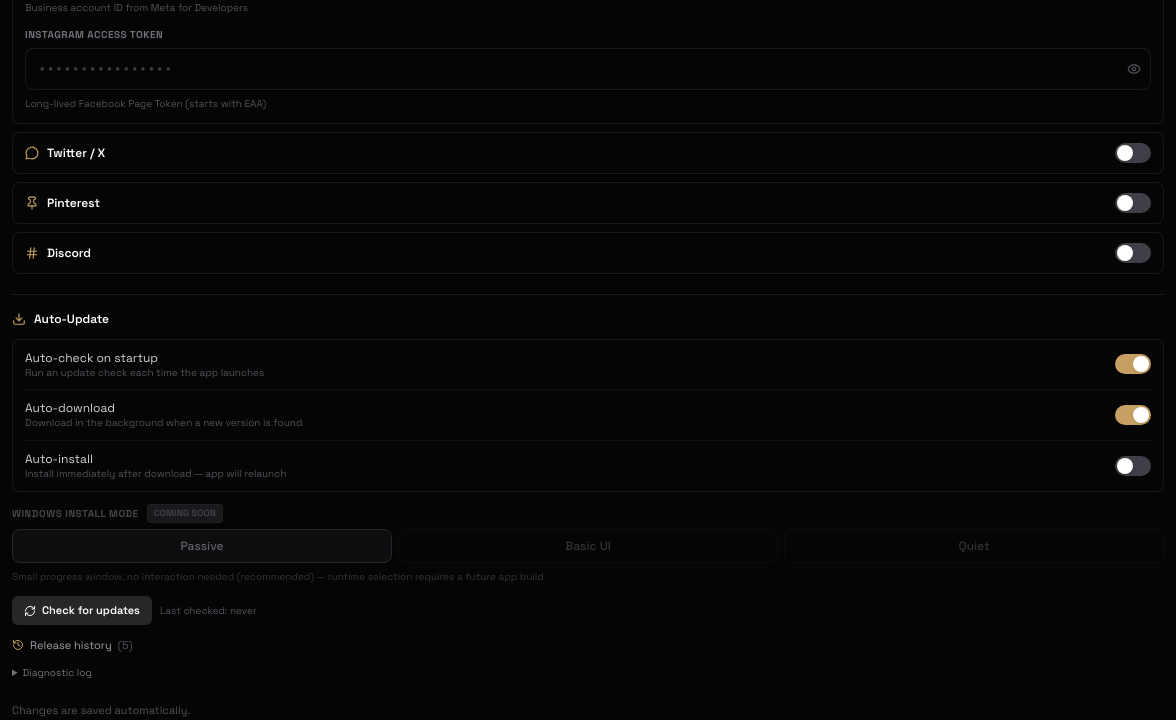
Test case: DesktopSettingsPanel — V060-003 update check ACL handling › renders the calm "unavailable" state with a Releases link on ACL denial — no red AlertCircle
The image size is (1176, 720).
(page scrolled)
Click the button "Check for updates".
click(82, 611)  # box [12,596,152,625]
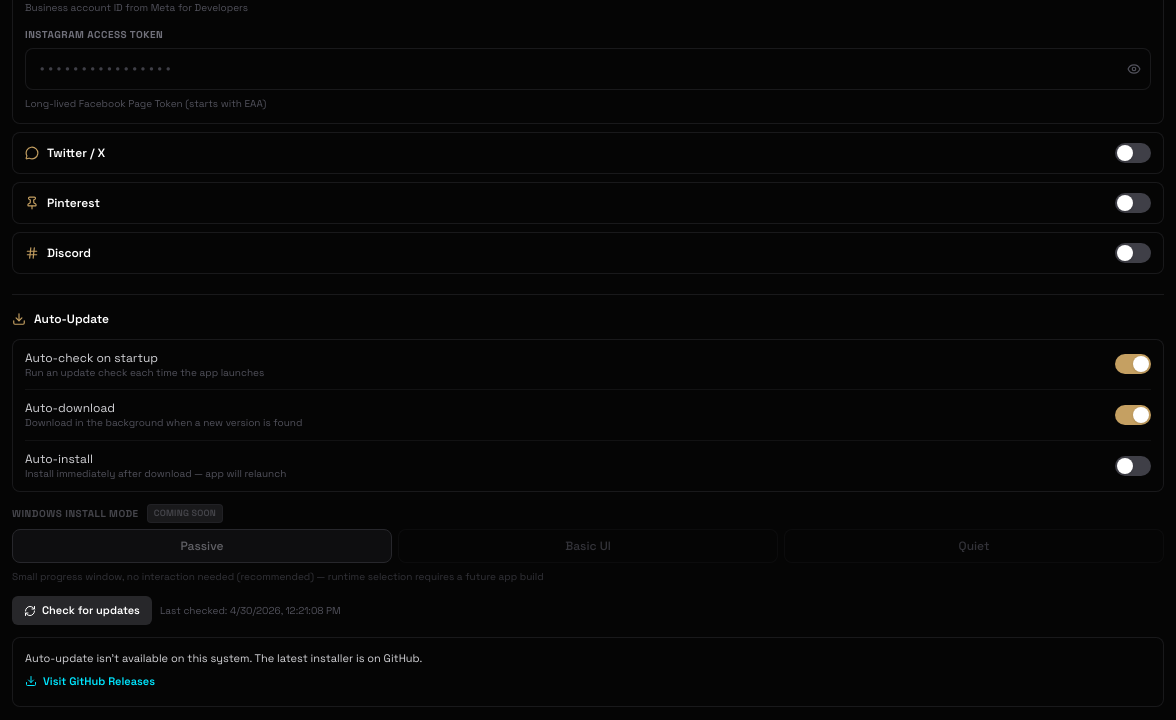
Result: the message named "unavailable" shows "GitHub" at [25,651,422,665]
